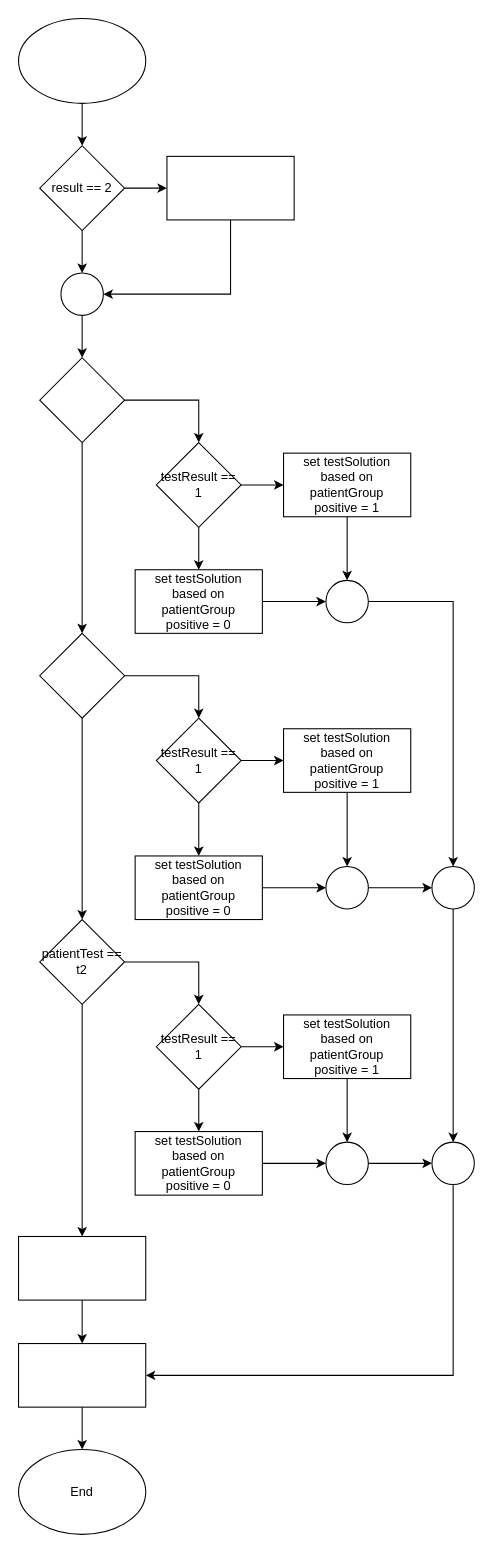
This 493x1553 diagram has some shape labels left out. Each missing label, with the box of its shape:
patientTest == N: (39, 357, 125, 443)
patientTest == t1: (39, 632, 125, 718)
PRINT no test needed testSolution = 0 positive = 0: (17, 1235, 146, 1300)
result = 0: (166, 155, 294, 220)
RETURN patientTest, testSolution, testResult, positive: (17, 1342, 146, 1407)
Start: (17, 17, 146, 103)
